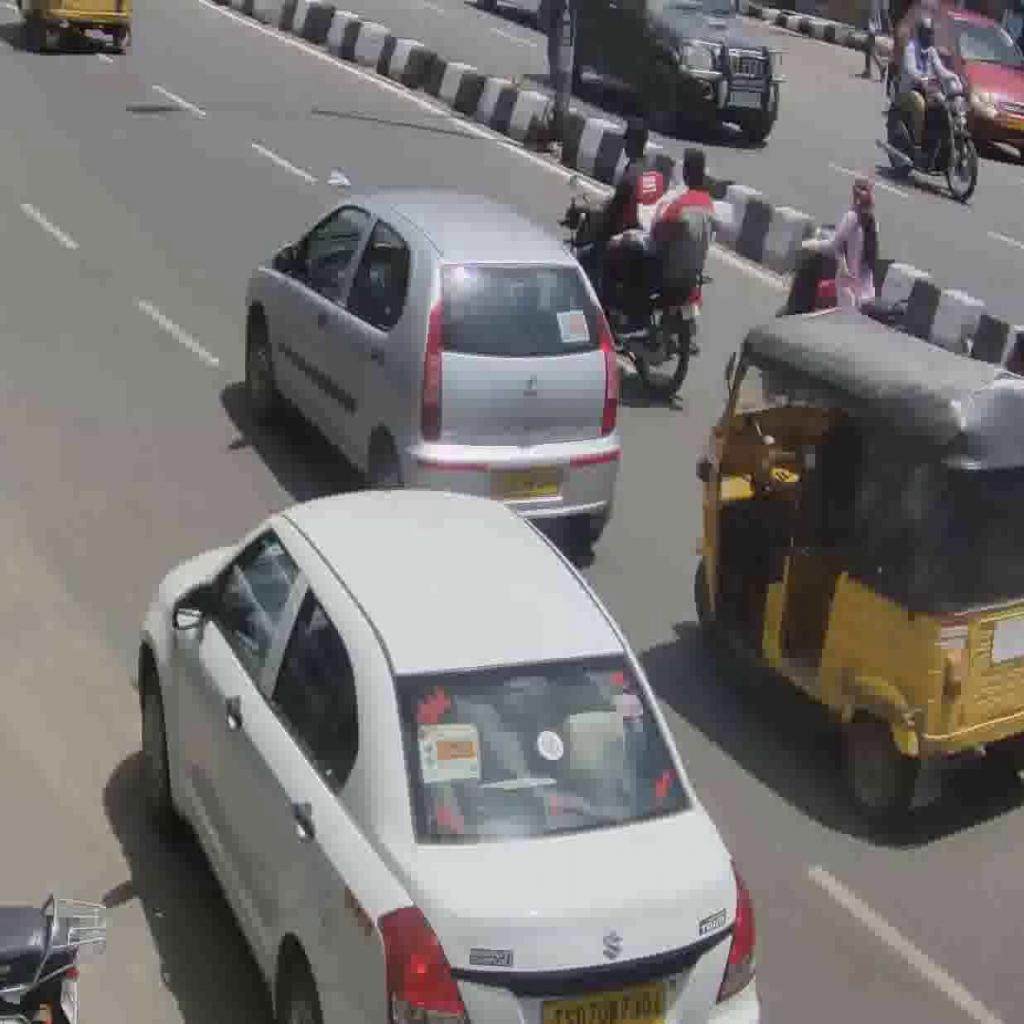helmet: (565, 197, 710, 404)
